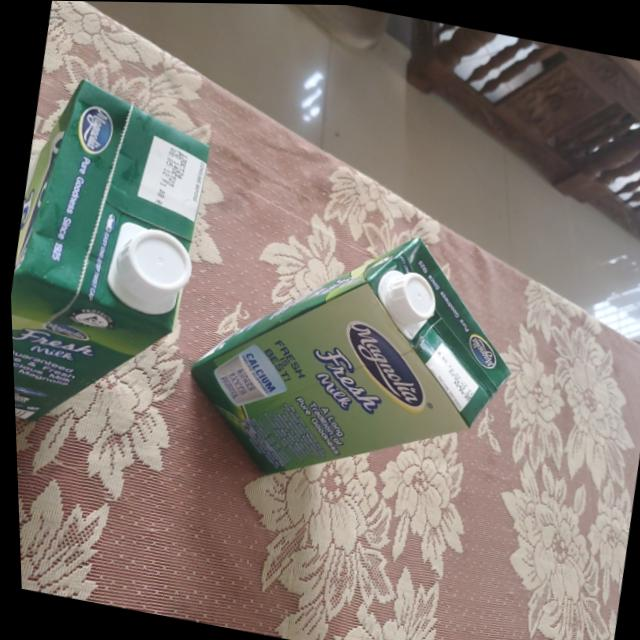milk: (166, 191, 529, 511), (2, 68, 227, 456)
